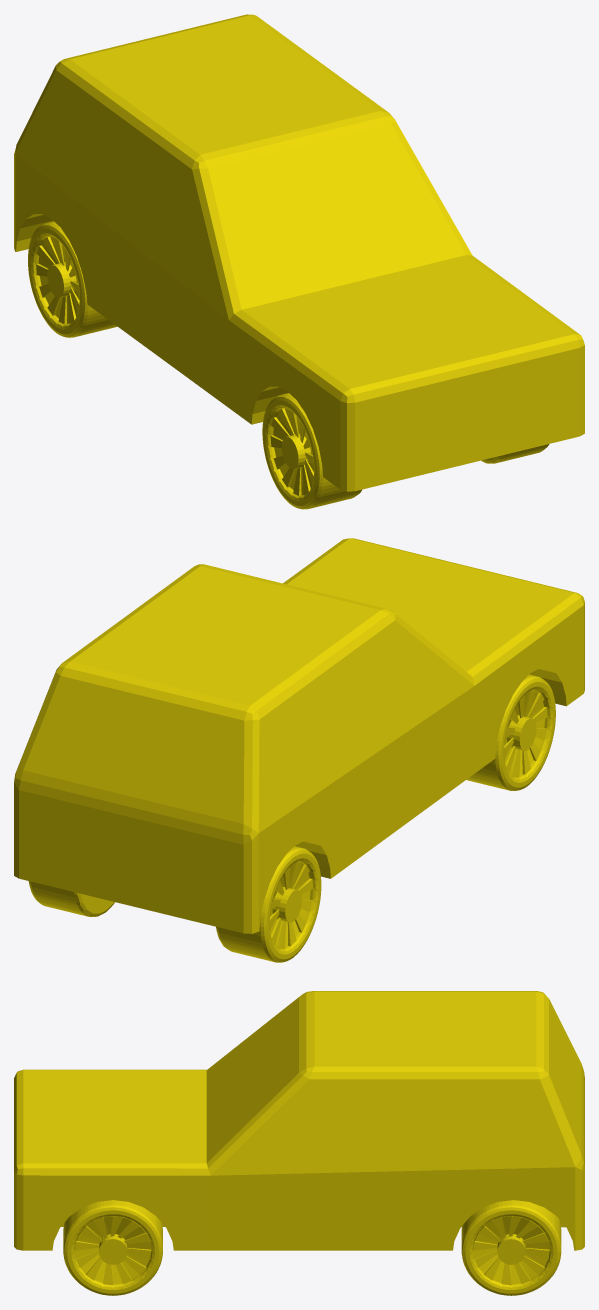
The model's file is Carv4.fbx.
3 views of the same model, one above another, from view 1: azimuth 30°, elevation 25°; view 2: azimuth 150°, elevation 25°; view 3: azimuth 270°, elevation 25° (orthographic). The views are drawn at different scales.
Visible parts, largest first — view 1: Cube; view 2: Cube; view 3: Cube.
Boxes of the visible parts, box(x1,y1,x2,y2) form: Cube: box(14, 14, 584, 509); Cube: box(14, 538, 584, 962); Cube: box(14, 991, 584, 1295).
Size of the model in its own units: 123 by 123 by 290.
